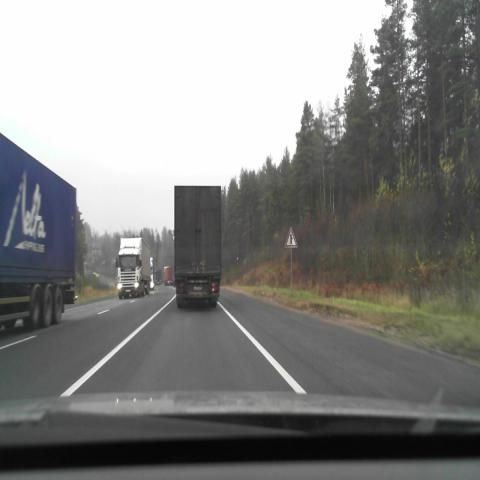2_3_2: (284, 226, 298, 247)
